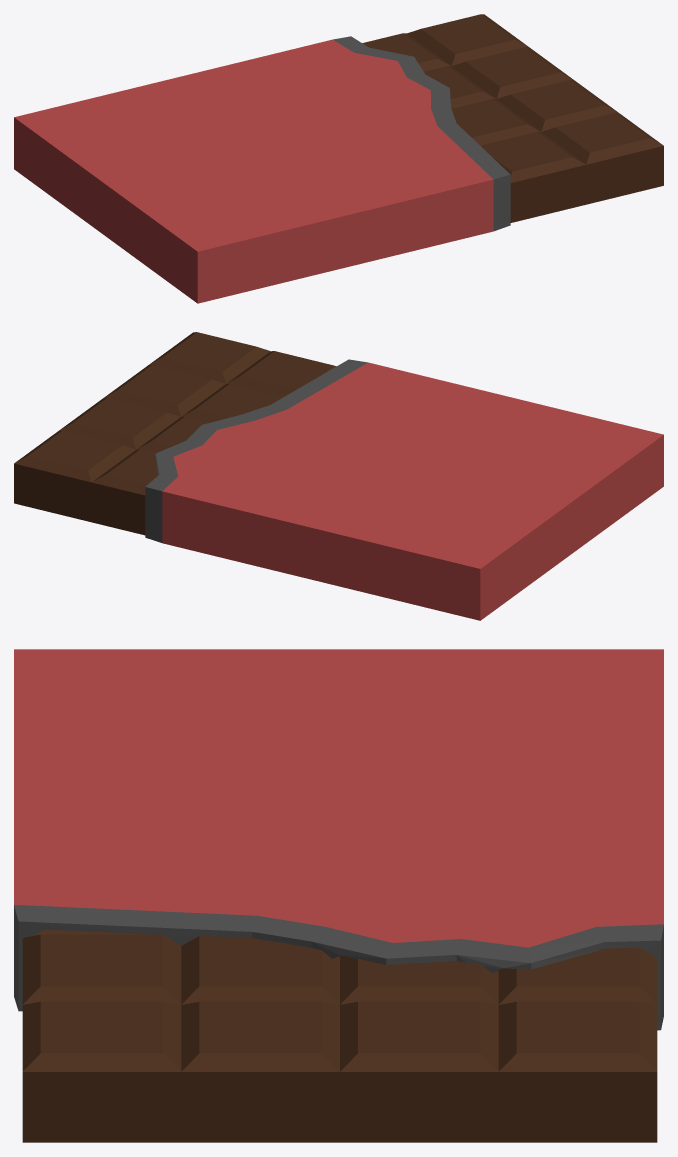
Rendered from Chocolate.fbx.
3 renders of one model, top to bottom at view 1: azimuth 30°, elevation 25°; view 2: azimuth 150°, elevation 25°; view 3: azimuth 270°, elevation 25°, orthographic. The views are drawn at different scales.
Visible parts, largest first — view 1: Chocolate_LOD0; view 2: Chocolate_LOD0; view 3: Chocolate_LOD0.
Part boxes in pixels (x1=…): Chocolate_LOD0: x1=14, y1=14, x2=663, y2=303; Chocolate_LOD0: x1=14, y1=332, x2=663, y2=620; Chocolate_LOD0: x1=14, y1=649, x2=663, y2=1142.
Bounding box in the file's own units: 59.29 × 6.28 × 40.26.
